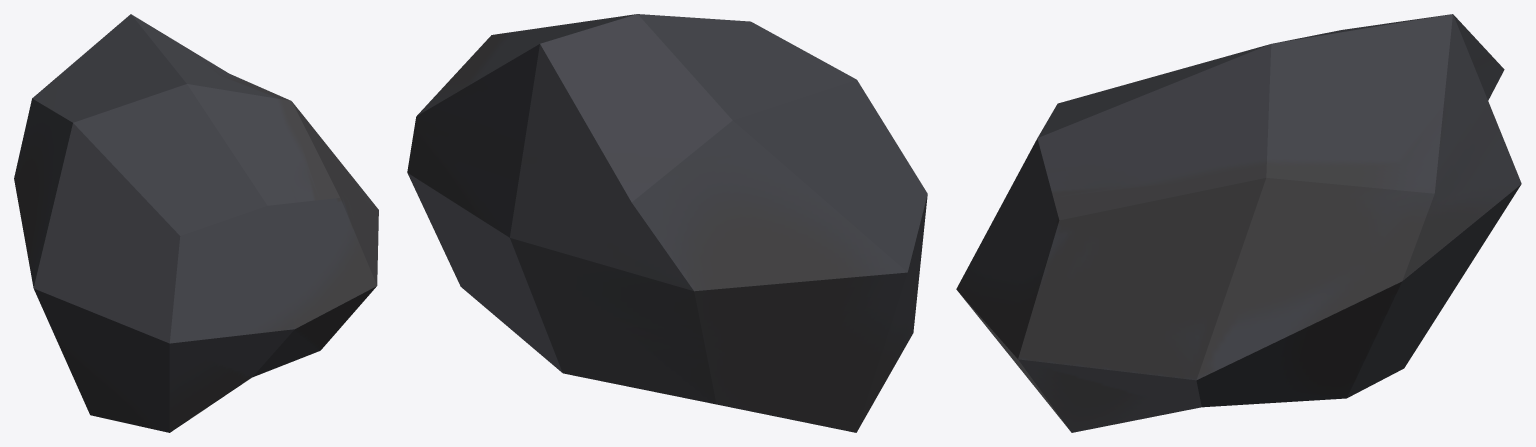
The model's file is roca_1.fbx.
3 renders of one model, left to right at view 1: azimuth 30°, elevation 25°; view 2: azimuth 150°, elevation 25°; view 3: azimuth 270°, elevation 25°, orthographic. The views are drawn at different scales.
Parts seen in each view (by area): view 1: Plane.007; view 2: Plane.007; view 3: Plane.007.
Part boxes in pixels (x1,y1,x2,y2): Plane.007: [14, 14, 378, 432]; Plane.007: [407, 14, 927, 432]; Plane.007: [956, 14, 1521, 432].
Size of the model in its own units: 263 by 227 by 261.
